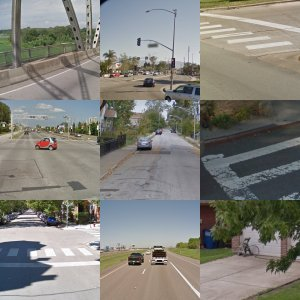汽車: (148, 247, 173, 271), (165, 86, 199, 100), (132, 134, 154, 152), (125, 249, 144, 269), (33, 137, 59, 151), (139, 76, 155, 88)
紅綠燈: (167, 55, 178, 69)
腳踏車: (234, 234, 262, 258)
行人穿越道: (203, 149, 300, 201), (1, 239, 92, 260), (201, 23, 261, 48)
